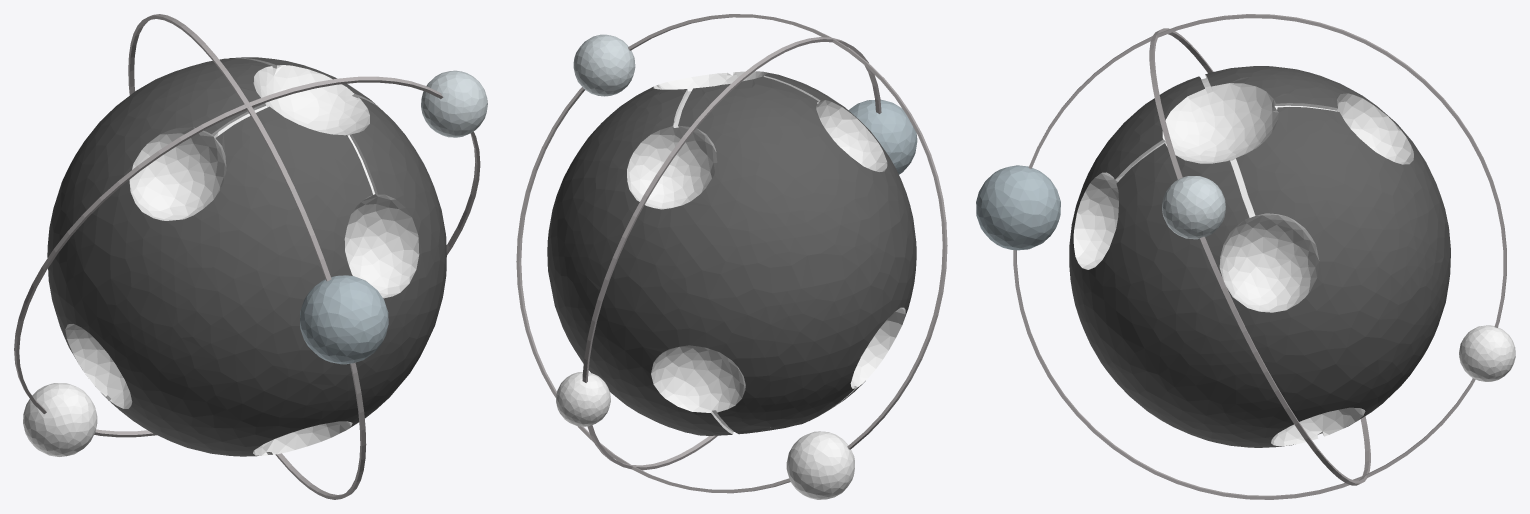
The model's file is PlanetAtom-transformed.glb.
The picture shows the model from 3 angles, left to right: view 1: azimuth 30°, elevation 25°; view 2: azimuth 150°, elevation 25°; view 3: azimuth 270°, elevation 25°; orthographic projection. The views are drawn at different scales.
Visible parts, largest first — view 1: Planet_13; view 2: Planet_13; view 3: Planet_13.
Part boxes in pixels (x1,y1,x2,y2): Planet_13: (14, 14, 487, 499); Planet_13: (516, 14, 947, 499); Planet_13: (976, 14, 1515, 499).
Size of the model in its own units: 25.97 by 25.43 by 28.25.
Materials: 1 (1 with a texture image).
